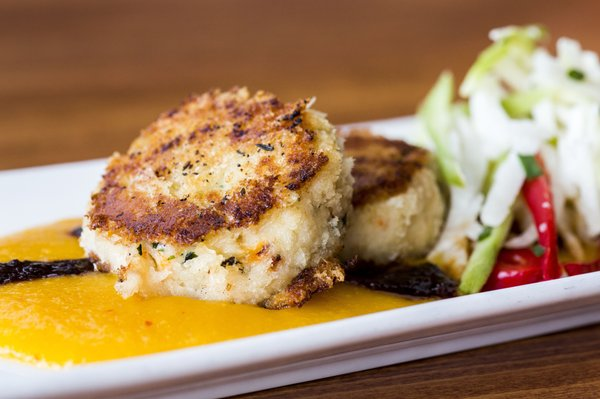sushi: (78, 86, 354, 310)
